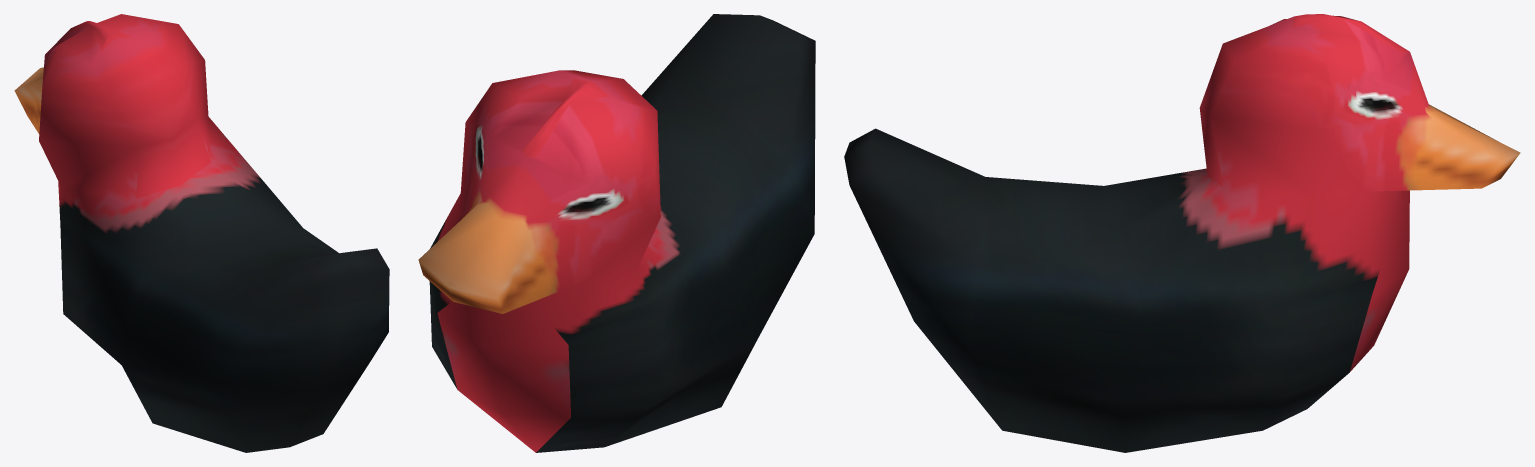
Rendered from duck_kashi.fbx.
3 views of the same model, side by side, from view 1: azimuth 30°, elevation 25°; view 2: azimuth 150°, elevation 25°; view 3: azimuth 270°, elevation 25° (orthographic). The views are drawn at different scales.
Visible parts, largest first — view 1: kashi; view 2: kashi; view 3: kashi.
Boxes of the visible parts, x1=… form: kashi: x1=14, y1=14, x2=389, y2=452; kashi: x1=418, y1=14, x2=815, y2=452; kashi: x1=844, y1=14, x2=1520, y2=452.
Size of the model in its own units: 0.11 by 0.1554 by 0.2568.
